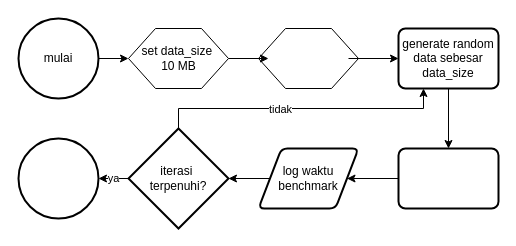
The diagram is 516 pixels wide and 246 high, and some of its shapes have lost their labels. Here are the shapes that lost their labels. From the top down, the box of each, then its label:
(258, 28, 358, 88): set jumlah iterasi 100
(17, 137, 99, 219): selesai
(397, 147, 499, 209): benchmark crc32 dengan fungsi crc32c
